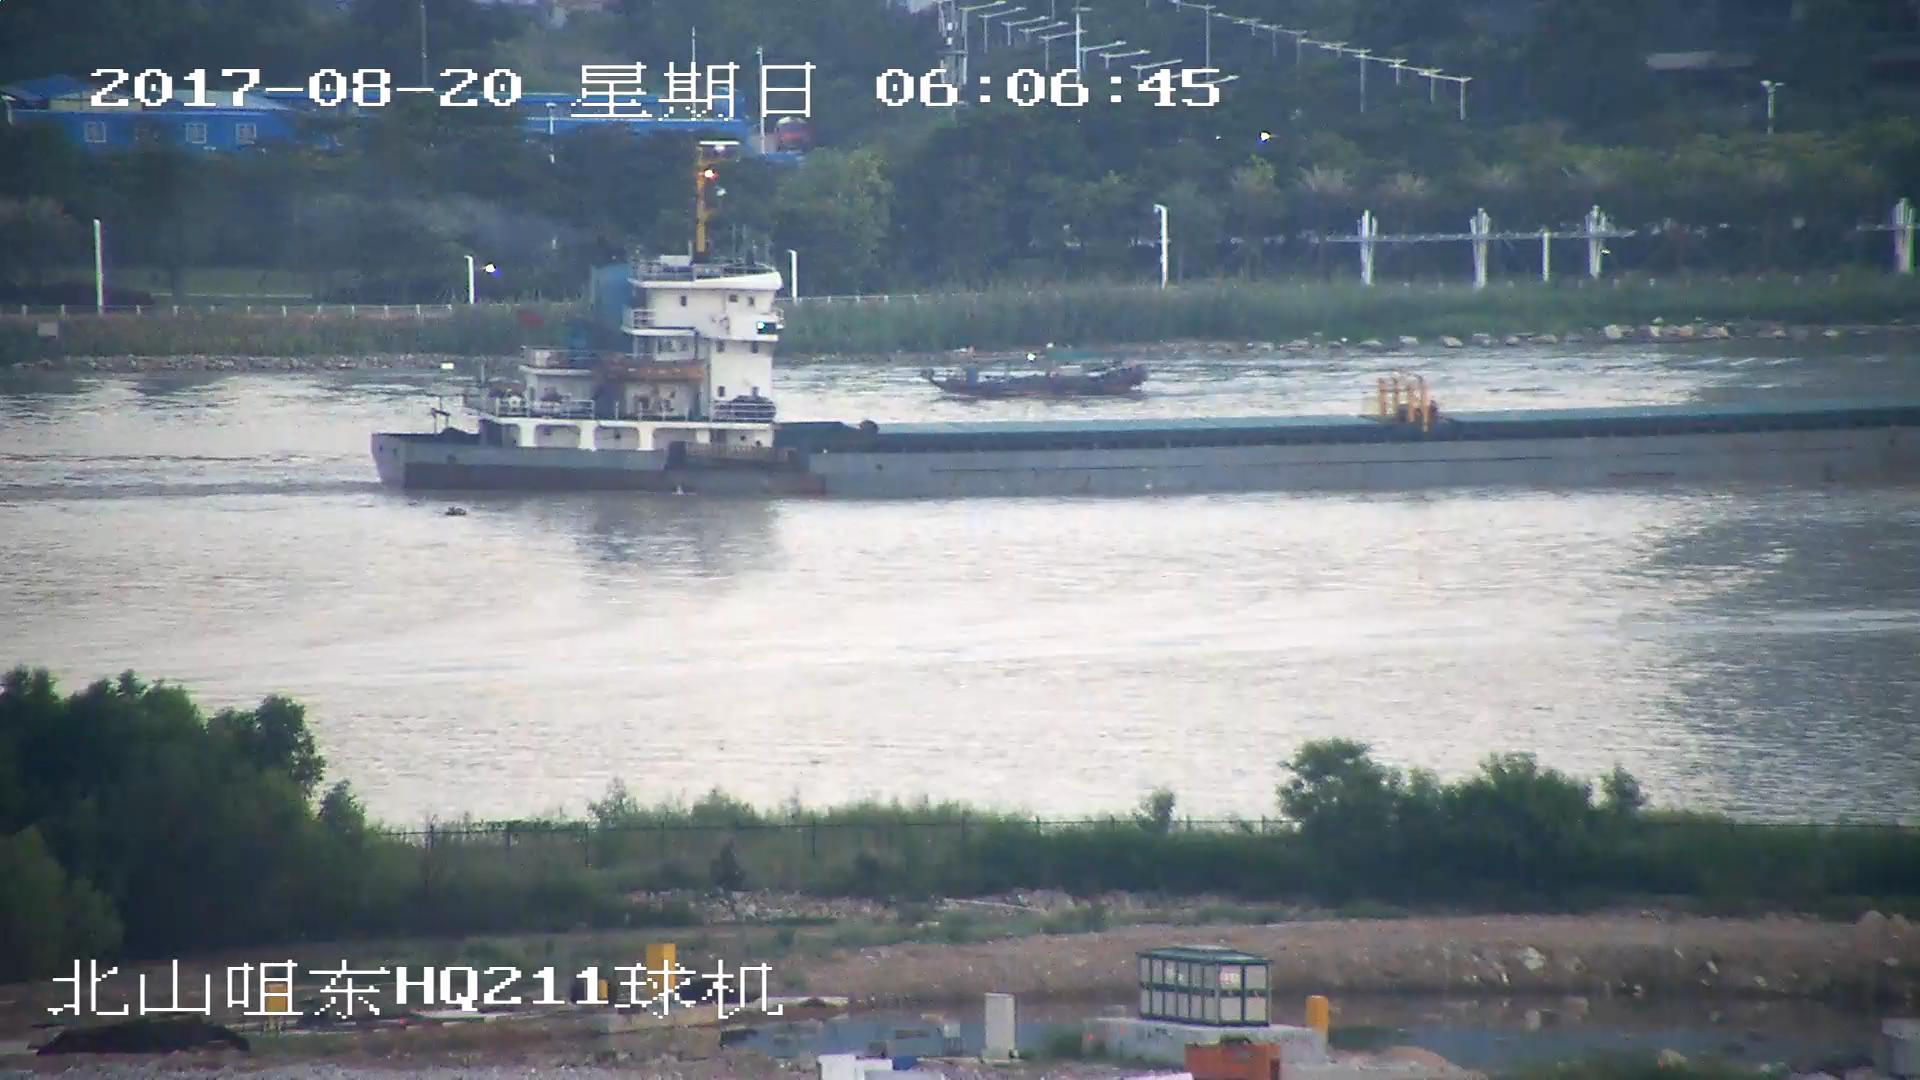Ship: (375, 211, 1920, 498), (928, 359, 1153, 393)
